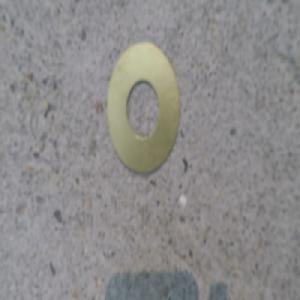Washer: (103, 42, 180, 178)
